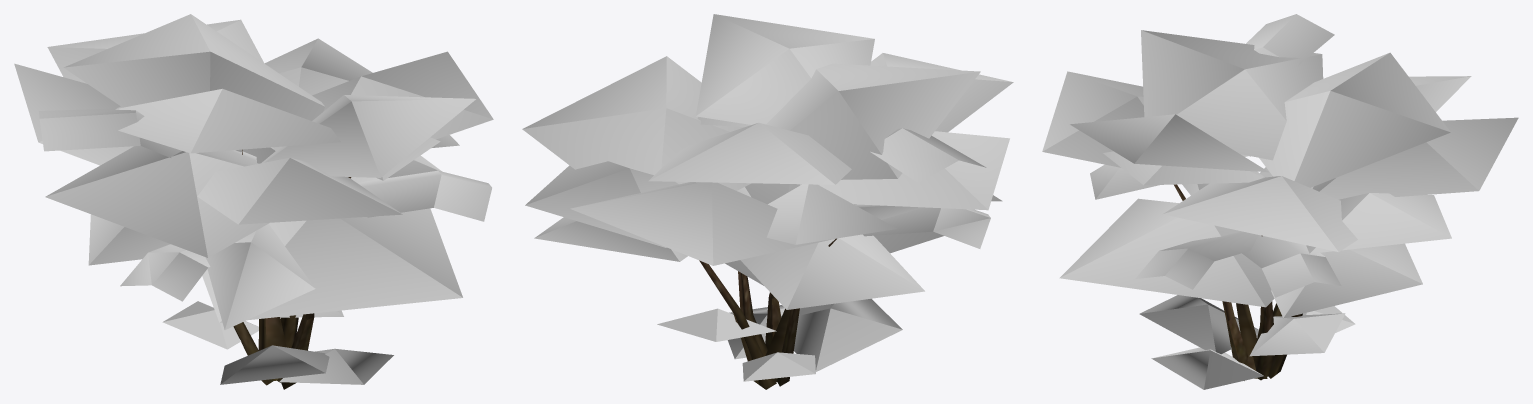
The model's file is GYMS00080.FBX.
The picture shows the model from 3 angles, left to right: view 1: azimuth 30°, elevation 25°; view 2: azimuth 150°, elevation 25°; view 3: azimuth 270°, elevation 25°; orthographic projection. The views are drawn at different scales.
Visible parts, largest first — view 1: MS00080; view 2: MS00080; view 3: MS00080.
Part boxes in pixels (x1,y1,x2,y2): MS00080: (14,14,493,389); MS00080: (522,14,1013,389); MS00080: (1042,14,1518,389).
Bounding box in the file's own units: 3.98 × 2.66 × 4.13.
